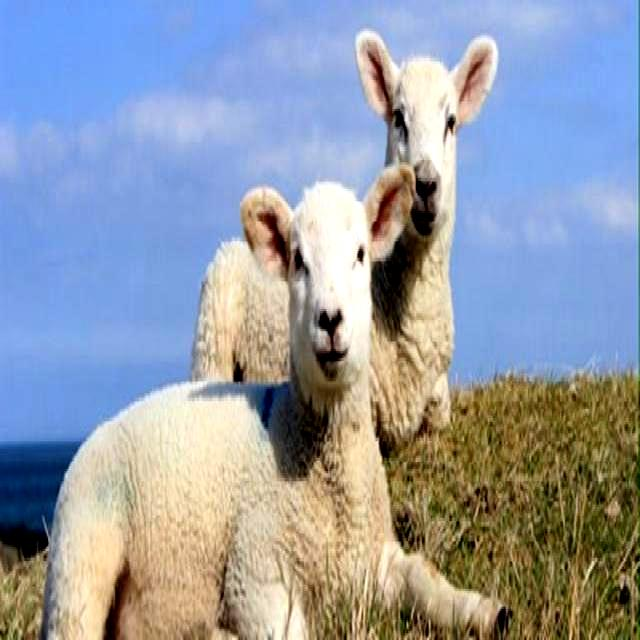sheep: (42, 167, 509, 640)
